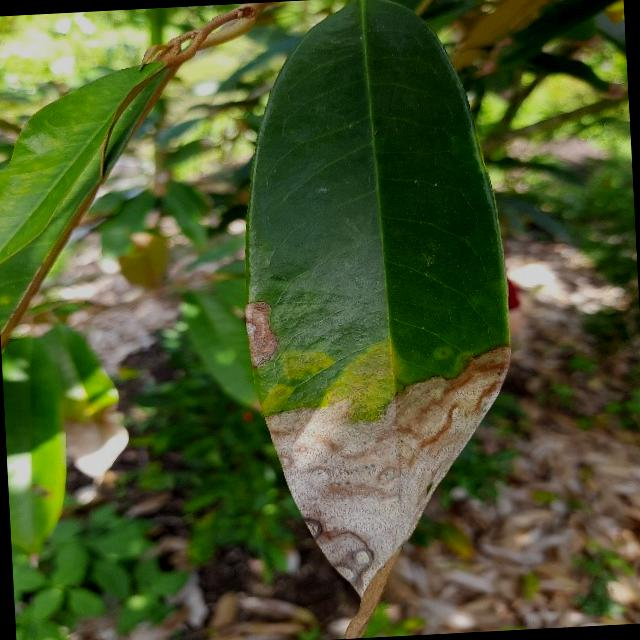Leaf Blight: (224, 0, 533, 639)
